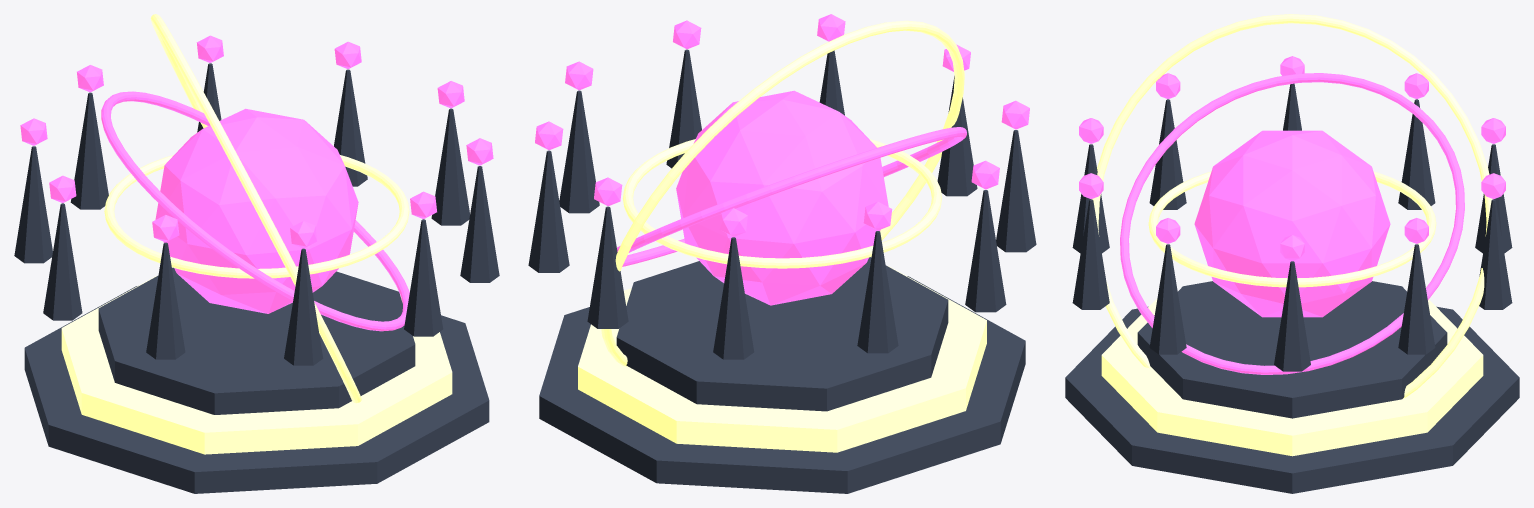
Rendered from gpu-blender-v52.glb.
3 renders of one model, left to right at view 1: azimuth 30°, elevation 25°; view 2: azimuth 150°, elevation 25°; view 3: azimuth 270°, elevation 25°, orthographic. The views are drawn at different scales.
Parts seen in each view (by area): view 1: Cylinder.002, SovereignCore_schema-illustrator-studio, Cylinder, Cylinder.001, Torus.001, Torus, Torus.002, Cone.004, Cone.005, Cone.008, Cone.006, Cone.007 (+15 smaller); view 2: Cylinder.002, SovereignCore_schema-illustrator-studio, Cylinder, Cylinder.001, Torus.002, Torus, Torus.001, Cone.004, Cone.005, Cone.006, Cone.003, Cone.001 (+14 smaller); view 3: SovereignCore_schema-illustrator-studio, Cylinder.002, Cylinder, Cylinder.001, Torus.001, Torus.002, Torus, Cone.001, Cone.009, Cone, Cone.008, Cone.002 (+14 smaller).
Part boxes in pixels (box(x1,y1,x2,y2)): Cylinder.002: box(98, 267, 415, 414); SovereignCore_schema-illustrator-studio: box(155, 108, 358, 313); Cylinder: box(24, 286, 489, 493); Cylinder.001: box(61, 276, 452, 454); Torus.001: box(101, 91, 409, 331); Torus: box(104, 155, 409, 278); Torus.002: box(150, 14, 361, 403); Cone.004: box(14, 146, 52, 263); Cone.005: box(43, 203, 82, 320); Cone.008: box(404, 219, 443, 336); Cone.006: box(146, 242, 185, 359); Cone.007: box(284, 248, 323, 365); Cylinder.002: box(616, 257, 948, 411); SovereignCore_schema-illustrator-studio: box(676, 90, 888, 305); Cylinder: box(539, 276, 1025, 493); Cylinder.001: box(578, 266, 986, 452); Torus.002: box(601, 20, 964, 366); Torus: box(623, 139, 941, 268); Torus.001: box(617, 127, 966, 266); Cone.004: box(857, 231, 898, 353); Cone.005: box(965, 190, 1006, 312); Cone.006: box(996, 130, 1036, 252); Cone.003: box(713, 237, 754, 359); Cone.001: box(528, 150, 569, 272); SovereignCore_schema-illustrator-studio: box(1194, 130, 1390, 317); Cylinder.002: box(1137, 281, 1447, 418); Cylinder: box(1065, 306, 1519, 493); Cylinder.001: box(1101, 298, 1483, 456); Torus.001: box(1120, 73, 1464, 374); Torus.002: box(1092, 14, 1492, 398); Torus: box(1148, 171, 1436, 287); Cone.001: box(1398, 244, 1435, 354); Cone.009: box(1149, 244, 1186, 354); Cone: box(1274, 261, 1310, 371); Cone.008: box(1072, 199, 1109, 309); Cone.002: box(1479, 199, 1512, 309).
Bounding box in the file's own units: 4.41 × 3.72 × 4.4.
